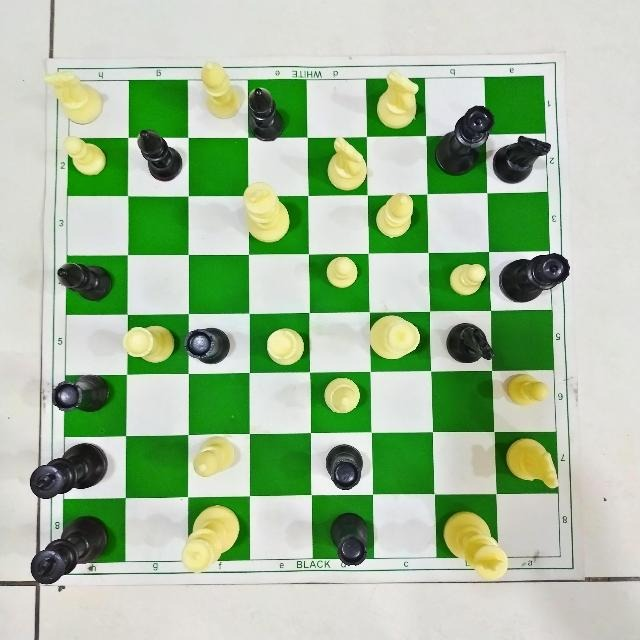black-bishop: (128, 127, 189, 185), (55, 254, 116, 306), (242, 88, 294, 142)
black-king: (27, 513, 113, 583), (30, 436, 114, 502)
black-knight: (493, 125, 551, 185), (441, 318, 497, 366)
black-queen: (433, 99, 493, 176), (497, 245, 572, 306)
black-rook: (323, 505, 375, 568), (49, 374, 117, 422), (317, 439, 367, 491), (183, 319, 236, 366)
white-bishop: (188, 55, 248, 130), (373, 189, 422, 243), (189, 432, 238, 480), (317, 373, 366, 419)
white-king: (437, 506, 517, 586), (236, 179, 294, 243)
white-knight: (38, 67, 106, 129), (368, 68, 431, 132), (500, 433, 565, 491), (318, 134, 374, 193)
white-pawn: (437, 252, 492, 299), (57, 136, 115, 178), (264, 324, 312, 368), (503, 372, 551, 412), (320, 252, 362, 291)
white-queen: (179, 502, 245, 573), (366, 309, 424, 361)
white-rook: (121, 320, 179, 364)
